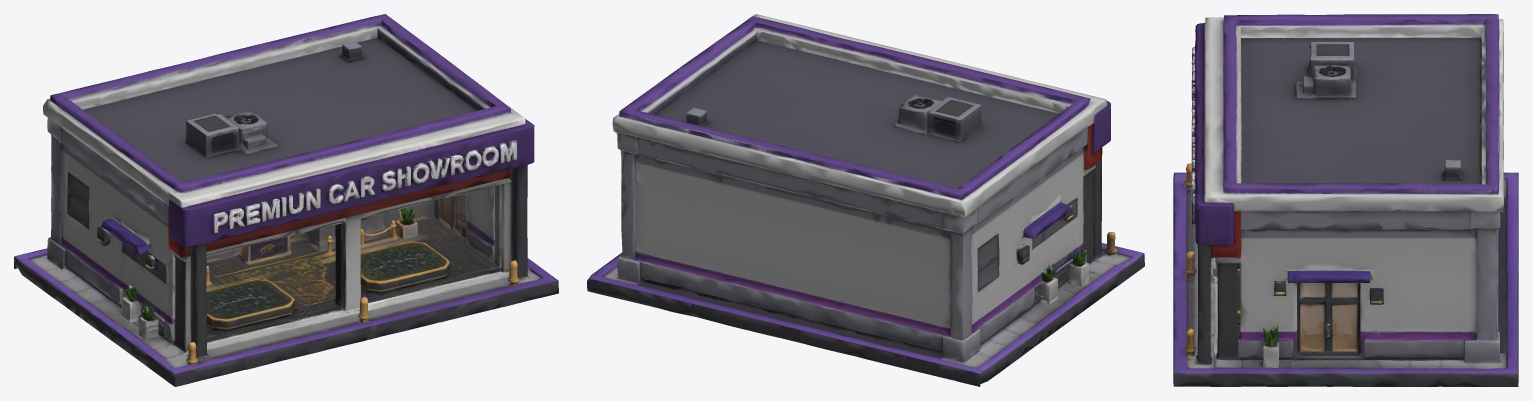
File: premium_car_showroom_1k_real.glb
The picture shows the model from 3 angles, left to right: view 1: azimuth 30°, elevation 25°; view 2: azimuth 150°, elevation 25°; view 3: azimuth 270°, elevation 25°; orthographic projection. The views are drawn at different scales.
Parts seen in each view (by area): view 1: tripo_node_fce5675b-4e96-48d5-aba0-56cb87de641e; view 2: tripo_node_fce5675b-4e96-48d5-aba0-56cb87de641e; view 3: tripo_node_fce5675b-4e96-48d5-aba0-56cb87de641e.
Part boxes in pixels (x1,y1,x2,y2): tripo_node_fce5675b-4e96-48d5-aba0-56cb87de641e: (14,14,558,386); tripo_node_fce5675b-4e96-48d5-aba0-56cb87de641e: (587,14,1144,386); tripo_node_fce5675b-4e96-48d5-aba0-56cb87de641e: (1173,14,1518,386).
Bounding box in the file's own units: 1 × 0.4529 × 0.7269.
1 material, 1 textured.
